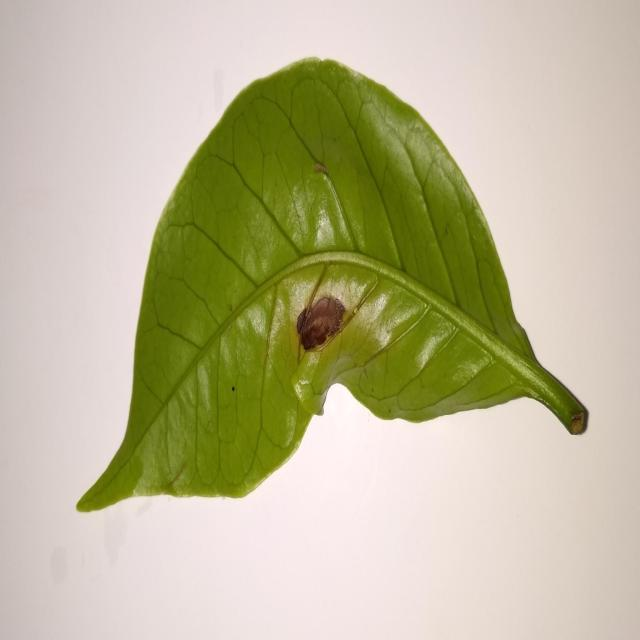Enfermedad-Antracnosis: (75, 58, 589, 516)
